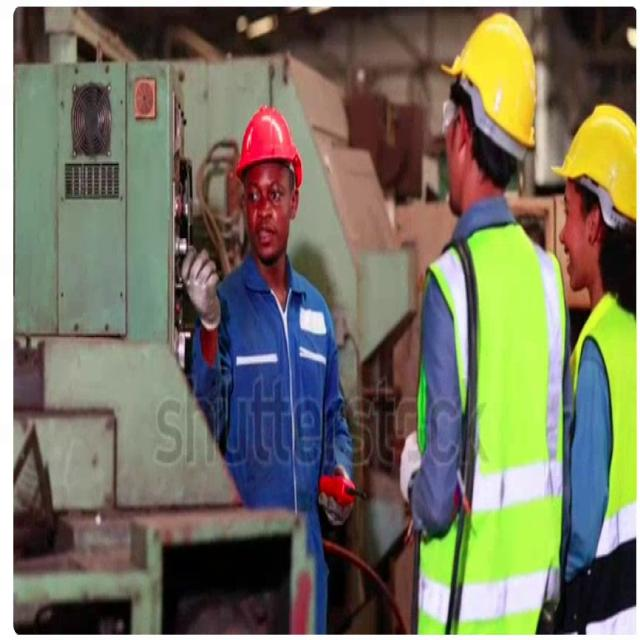gloved: (179, 243, 221, 329), (318, 464, 355, 526), (398, 430, 422, 504)
